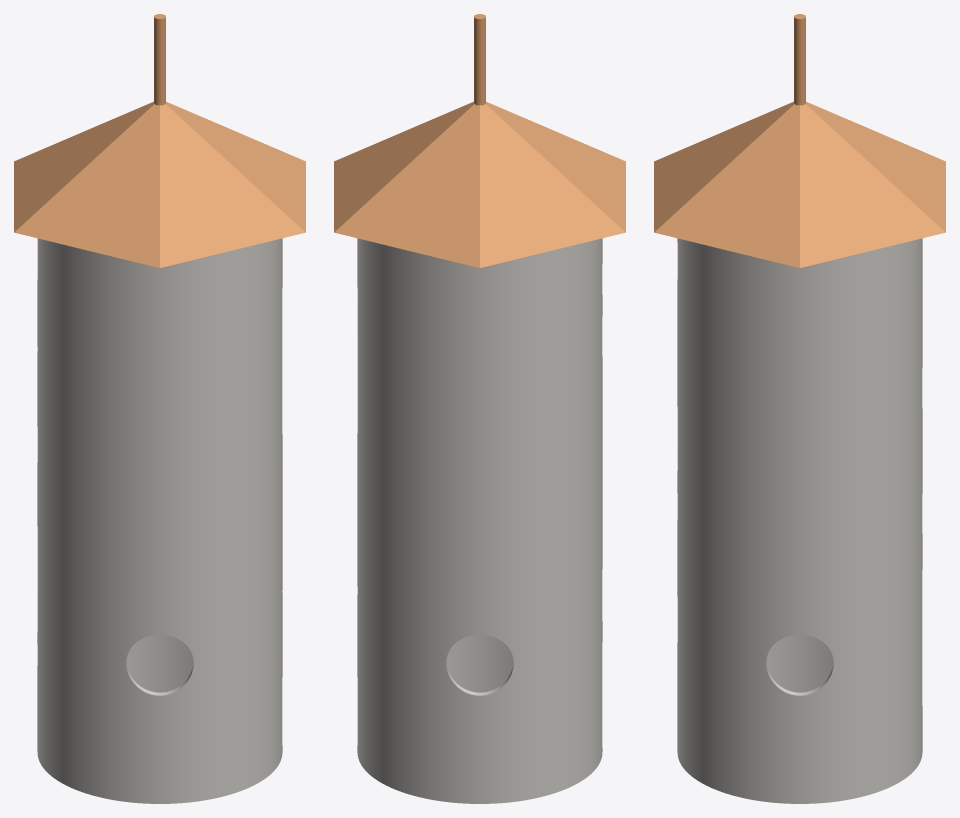
The model's file is pacificNorthwest.gltf.
The picture shows the model from 3 angles, left to right: view 1: azimuth 30°, elevation 25°; view 2: azimuth 150°, elevation 25°; view 3: azimuth 270°, elevation 25°; orthographic projection.
Bounding box in the file's own units: 0.11 × 0.272 × 0.0953.
